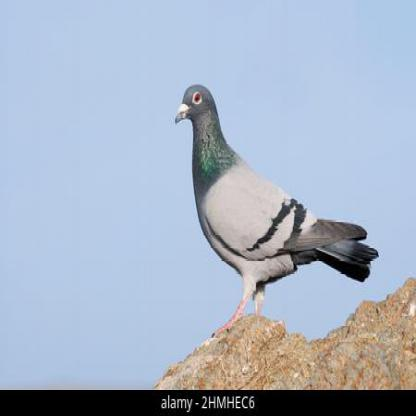Flying Rat: (173, 85, 384, 341)
